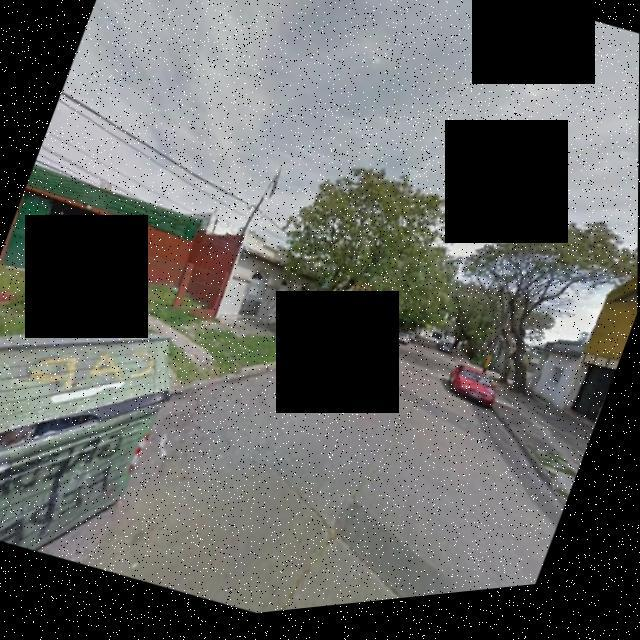bin: (0, 263, 200, 585)
